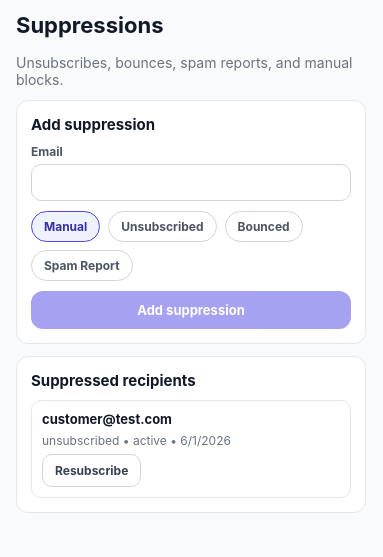
Test case: OwnerMarketingSuppressionsScreen › adds a manual suppression with web's payload
Expected: the text "customer@test.com" is shown, [42,411,172,427]
Type "spam@test.com" into the field named "Suppression email" at (191, 182), box [31,164,351,201]
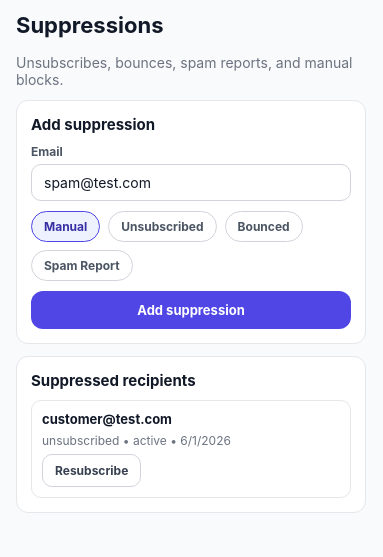
Click the button with aria-label "Reason spam_report" at (82, 266), box [31,250,133,281]
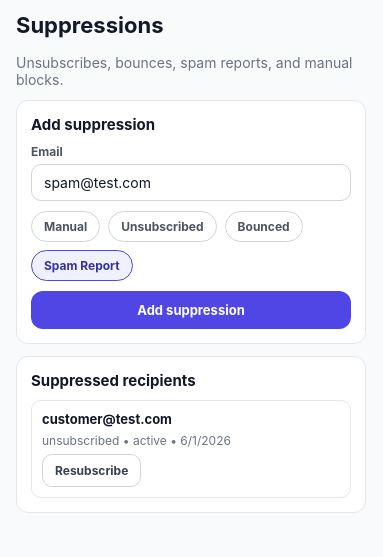
Click the button labelled "Add suppression" at (191, 310), box [31,291,351,329]
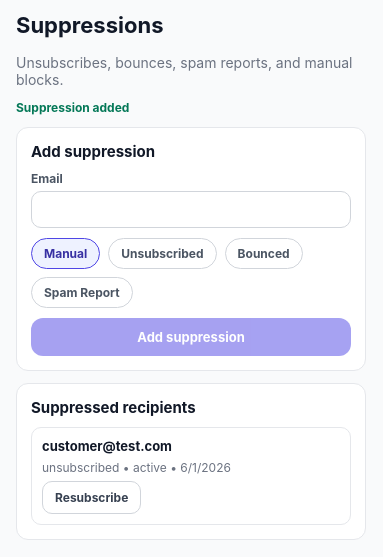
Expected: the text "Suppression added" is shown, [16,100,129,115]
